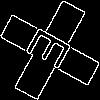E: (25, 25, 81, 76)
